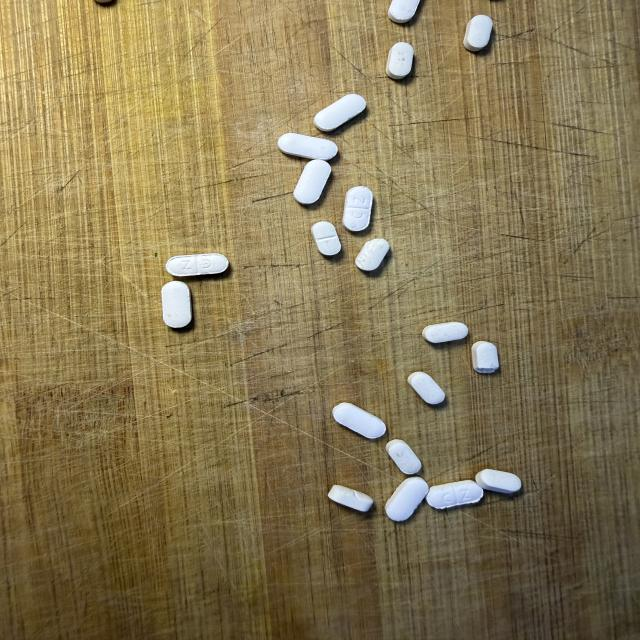pill: (385, 477, 428, 521), (314, 94, 365, 131), (333, 403, 386, 438), (293, 160, 331, 204), (427, 480, 483, 509), (278, 133, 337, 160), (166, 254, 228, 276), (162, 281, 191, 328), (343, 186, 372, 231), (386, 440, 421, 474), (408, 372, 445, 404), (328, 485, 373, 511), (355, 239, 389, 271), (476, 469, 521, 493), (464, 15, 492, 51), (386, 42, 413, 79), (312, 222, 341, 255), (423, 322, 468, 343), (472, 341, 499, 373), (388, 0, 419, 23)
